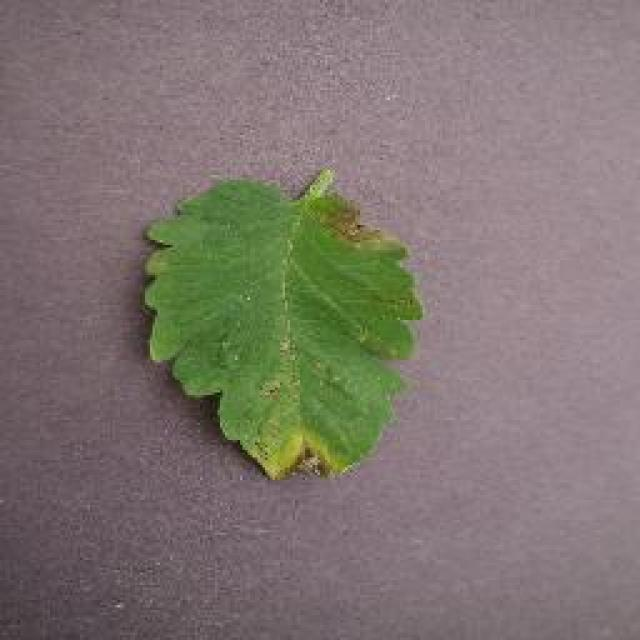Tomato late blight leaf: (138, 178, 424, 484)
